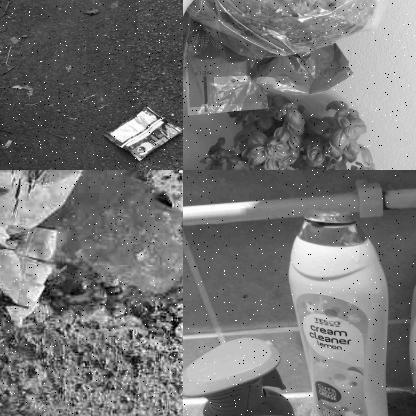plastic: (295, 206, 408, 415), (183, 0, 372, 109), (0, 170, 67, 328), (183, 335, 312, 415), (102, 106, 182, 162)
